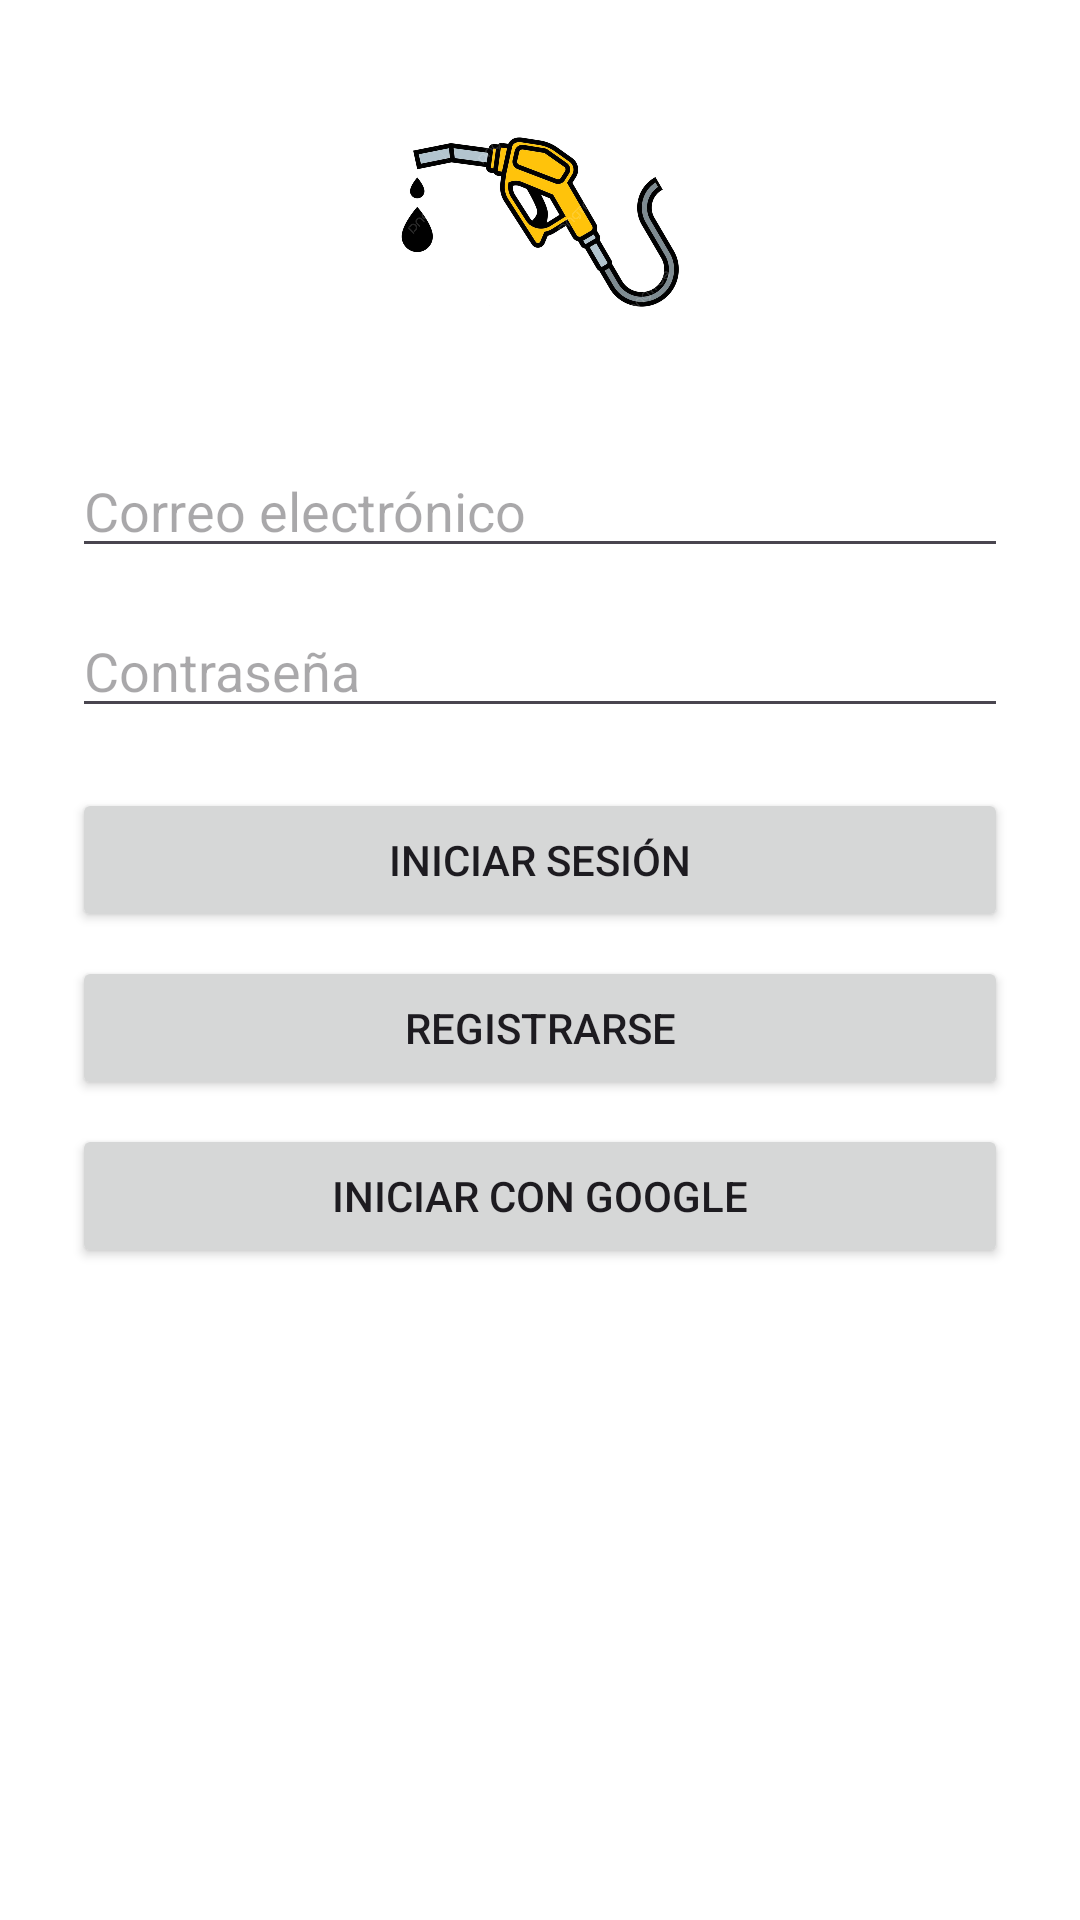

Named icons in this screenshot (1080*1920) and their centers, (x,y):
fuelmonitorapp: (540,222)
